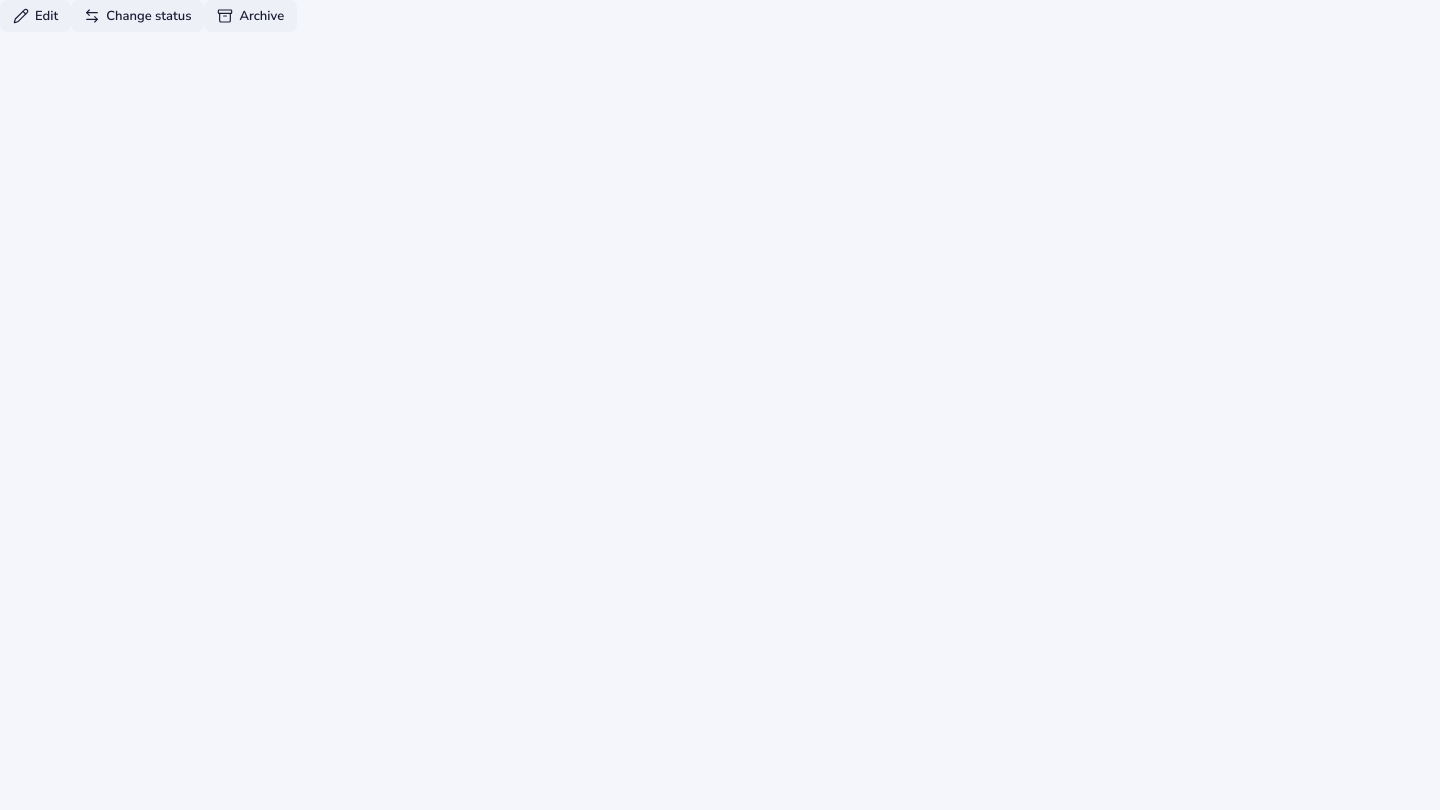
Test: DriverActions › status › opens on the current status with nothing to save, and returns focus when dismissed
The width and height of the screenshot is (1440, 810).
Click the button "Change status" at coordinates (138, 16), box x1=71 y1=0 x2=204 y2=32
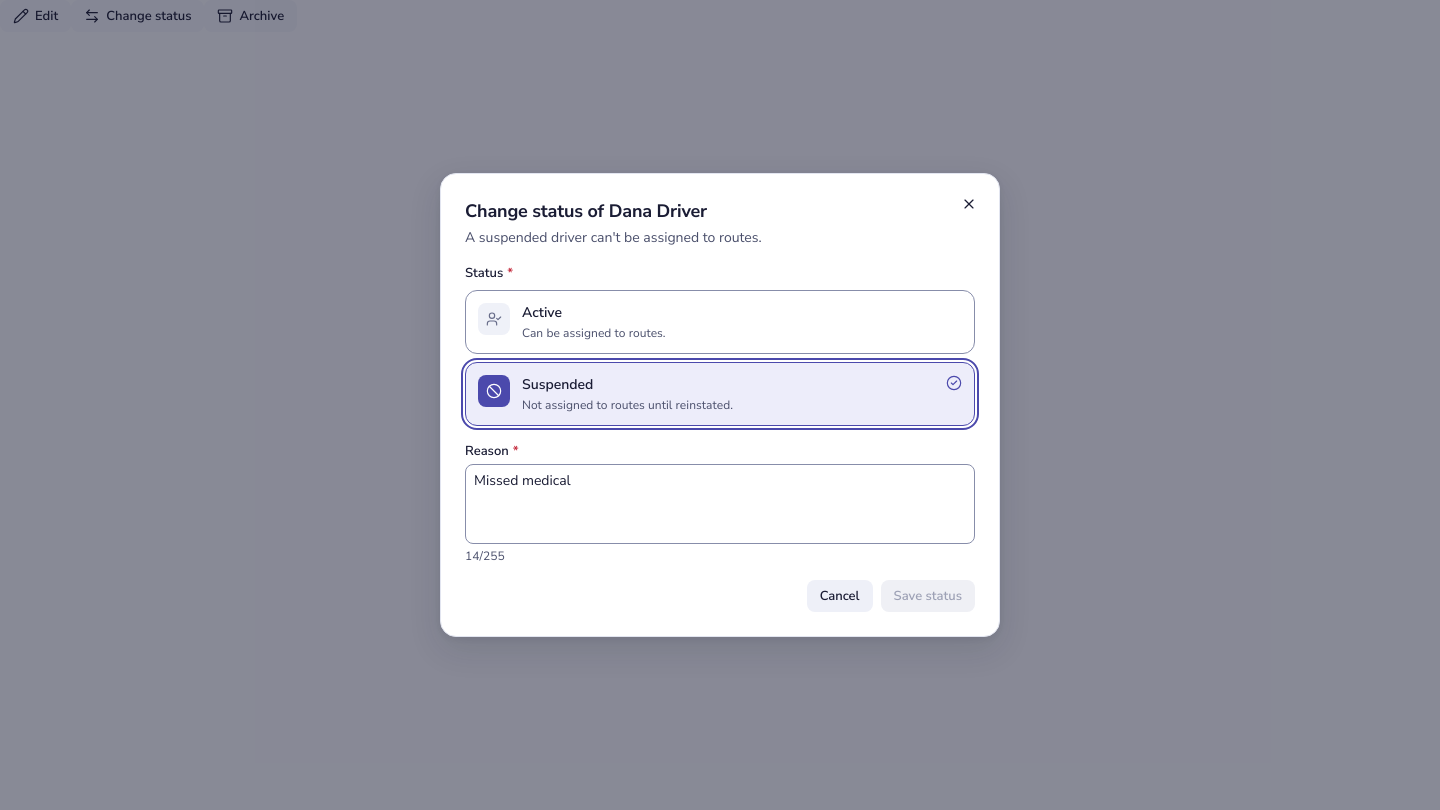
Result: the dialog "Change status of Dana Driver" is shown at x1=440 y1=173 x2=1000 y2=637
Result: the radio button labelled "Suspended Not assigned to routes until reinstated." is checked at x1=465 y1=362 x2=975 y2=426
Result: the text box labelled "Reason*" holds "Missed medical" at x1=465 y1=464 x2=975 y2=544
Press Escape
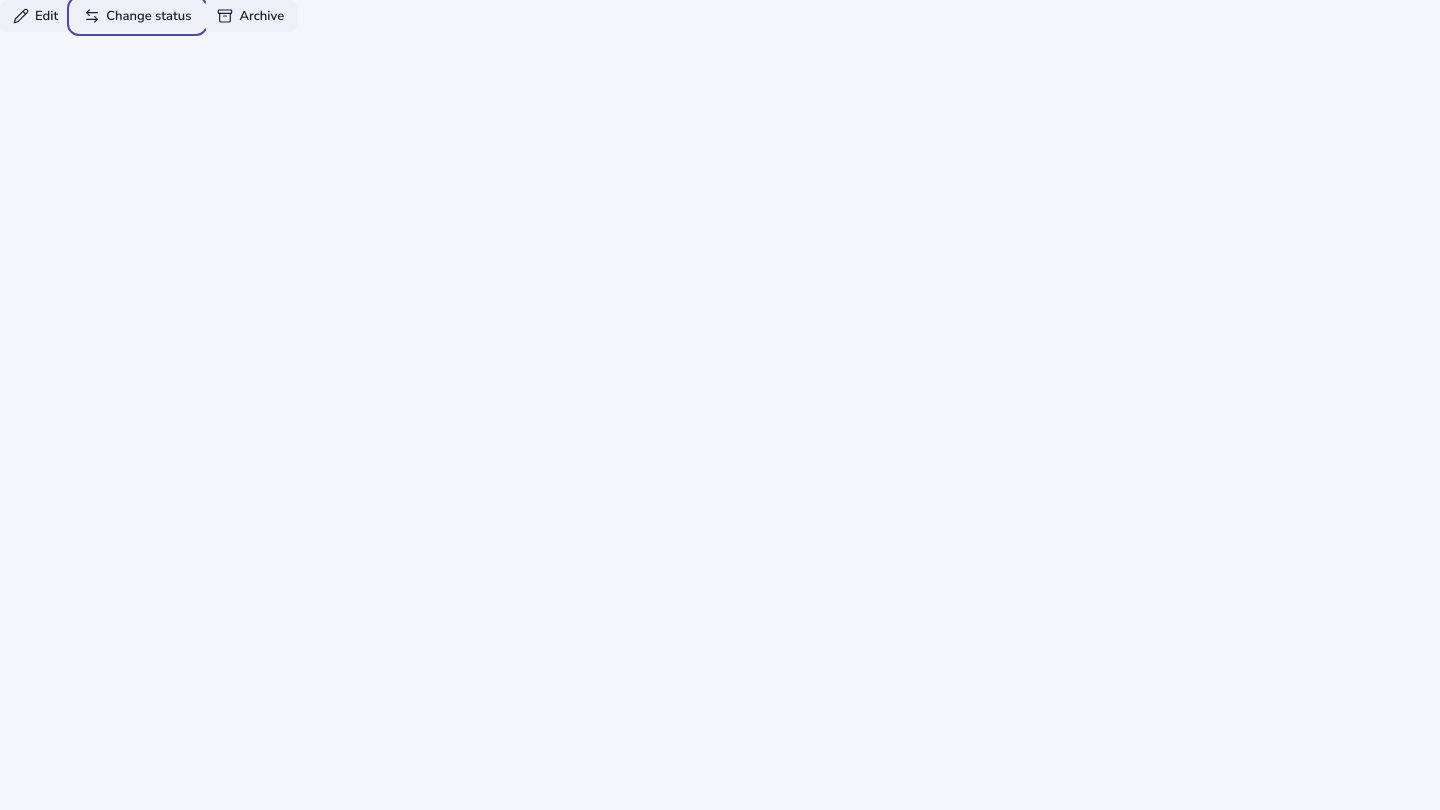
Result: the dialog is gone
